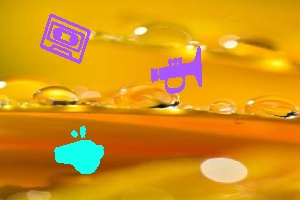喇叭: (149, 47, 205, 92)
玩具头: (54, 125, 106, 176)
磁带: (40, 13, 90, 64)
